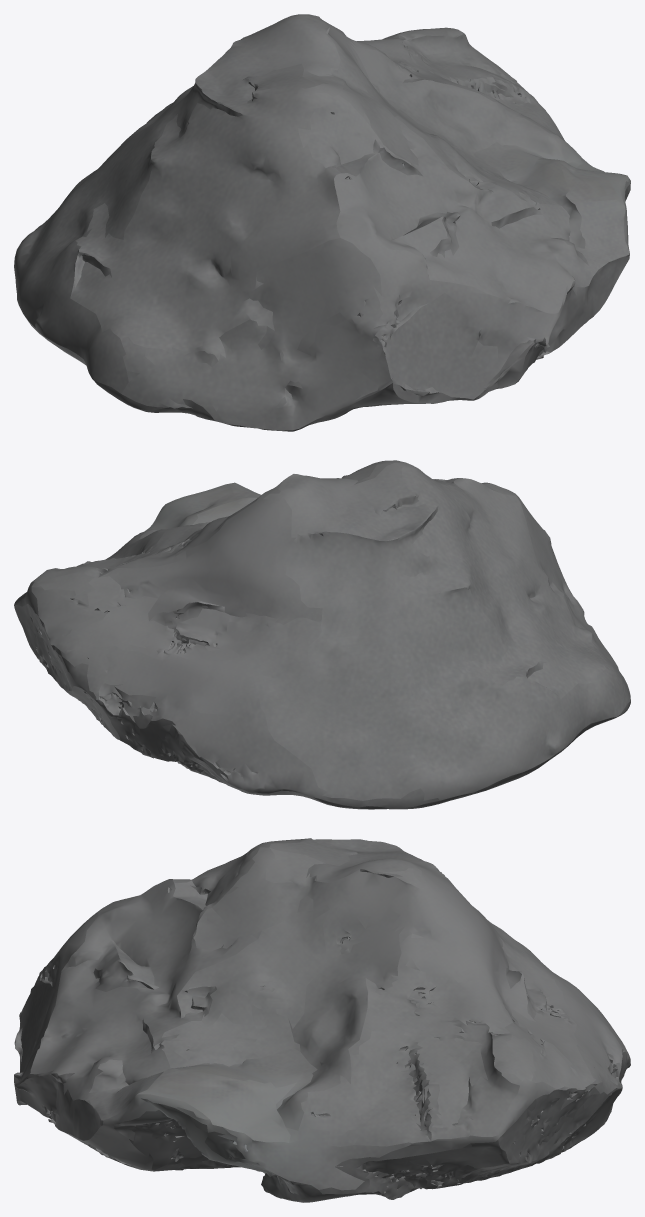
The picture shows the model from 3 angles, top to bottom: view 1: azimuth 30°, elevation 25°; view 2: azimuth 150°, elevation 25°; view 3: azimuth 270°, elevation 25°; orthographic projection. The views are drawn at different scales.
Parts seen in each view (by area): view 1: world; view 2: world; view 3: world.
Boxes of the visible parts, left/top/right/bottom form: world: left=14, top=14, right=630, bottom=431; world: left=14, top=460, right=630, bottom=809; world: left=14, top=838, right=630, bottom=1202.
Size of the model in its own units: 1.2 by 0.5514 by 1.2.
1 material, 1 textured.
